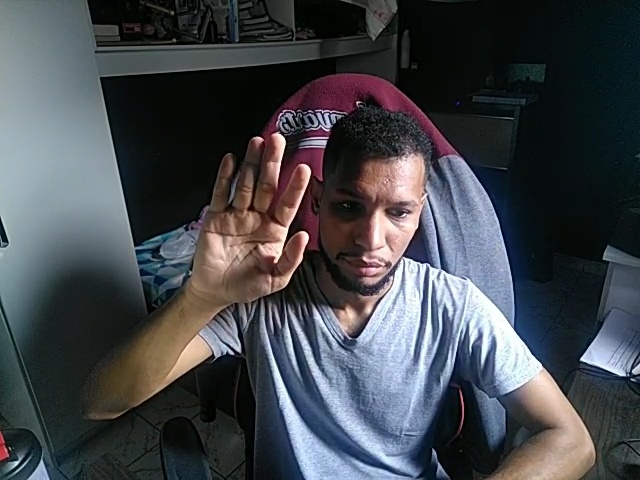oi: (193, 126, 317, 316)
